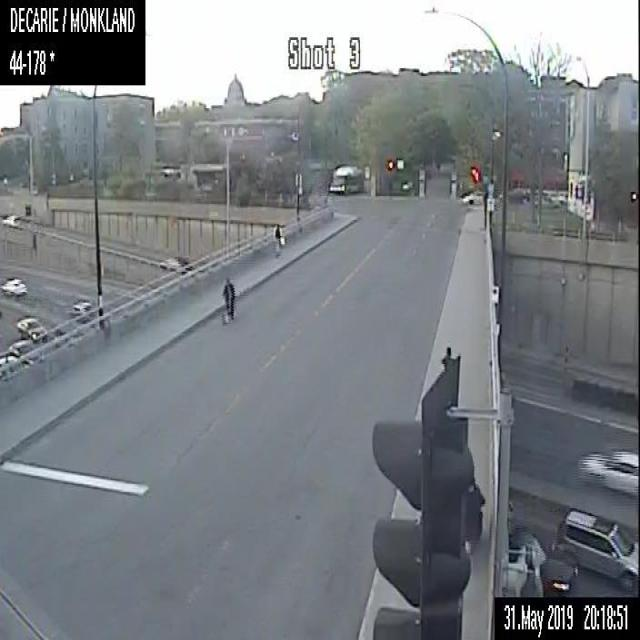bus: (327, 163, 363, 193)
pedestrian: (222, 274, 234, 318), (274, 223, 284, 253)
vehicle: (553, 506, 639, 586), (506, 525, 580, 591), (579, 447, 639, 497), (17, 317, 49, 342), (9, 338, 42, 361), (0, 275, 27, 297), (71, 297, 94, 316), (459, 189, 485, 204), (163, 255, 187, 269), (3, 212, 27, 223), (636, 475, 639, 492)
